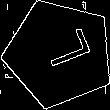L_W: (29, 30, 90, 78)
